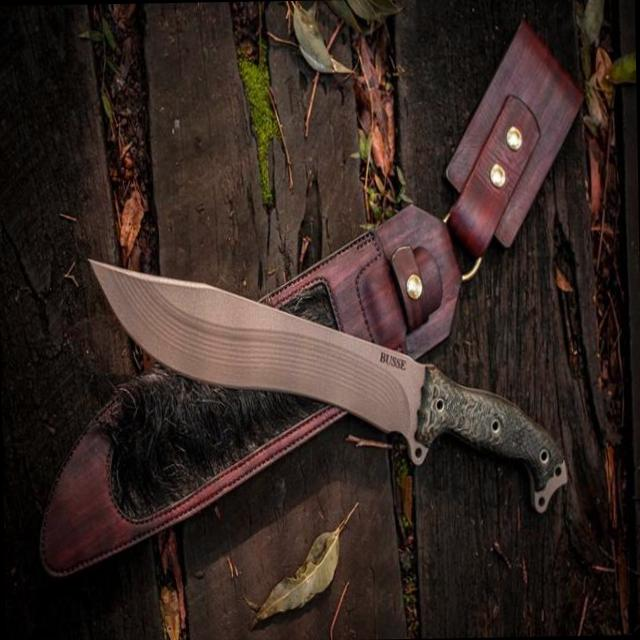Knife: (90, 261, 567, 512)
